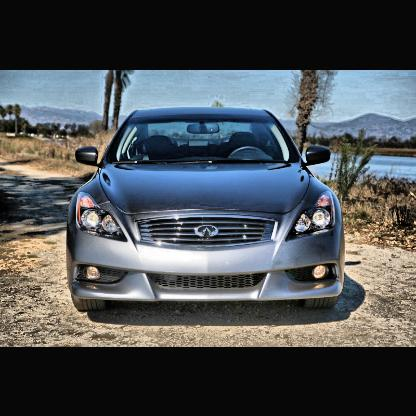Infiniti G Coupe IPL 2012: (66, 108, 346, 315)
